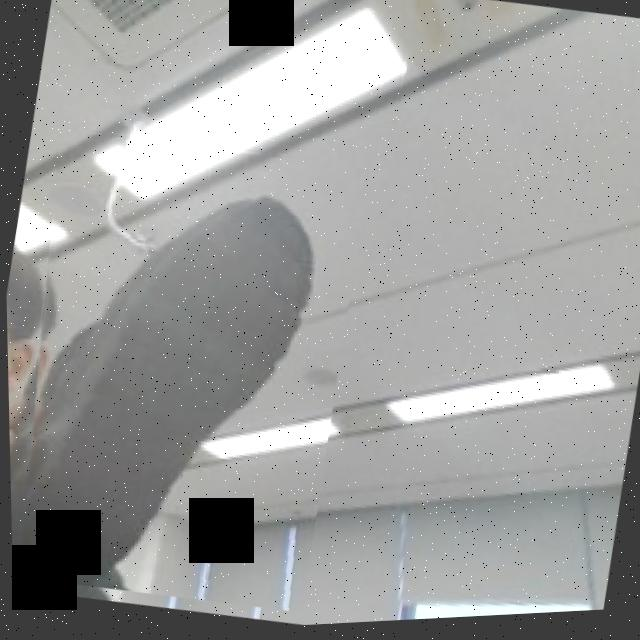shoe: (2, 97, 379, 627)
